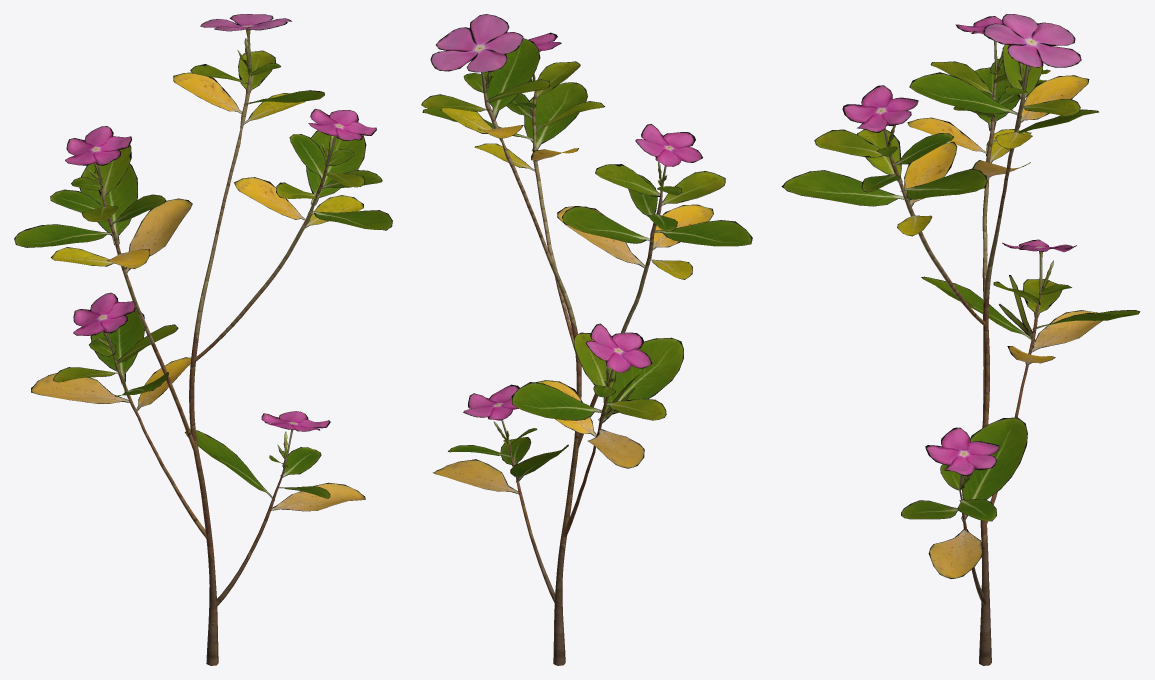
The model's file is periwinkle_plant.glb.
The picture shows the model from 3 angles, left to right: view 1: azimuth 30°, elevation 25°; view 2: azimuth 150°, elevation 25°; view 3: azimuth 270°, elevation 25°; orthographic projection. The views are drawn at different scales.
Parts seen in each view (by area): view 1: periwinkle_plant_03_LOD0; view 2: periwinkle_plant_03_LOD0; view 3: periwinkle_plant_03_LOD0.
Boxes of the visible parts, x1=… form: periwinkle_plant_03_LOD0: x1=14, y1=14, x2=392, y2=665; periwinkle_plant_03_LOD0: x1=421, y1=14, x2=752, y2=665; periwinkle_plant_03_LOD0: x1=781, y1=14, x2=1140, y2=665.
Size of the model in its own units: 0.1675 by 0.3002 by 0.1466.
Materials: 1 (1 with a texture image).
